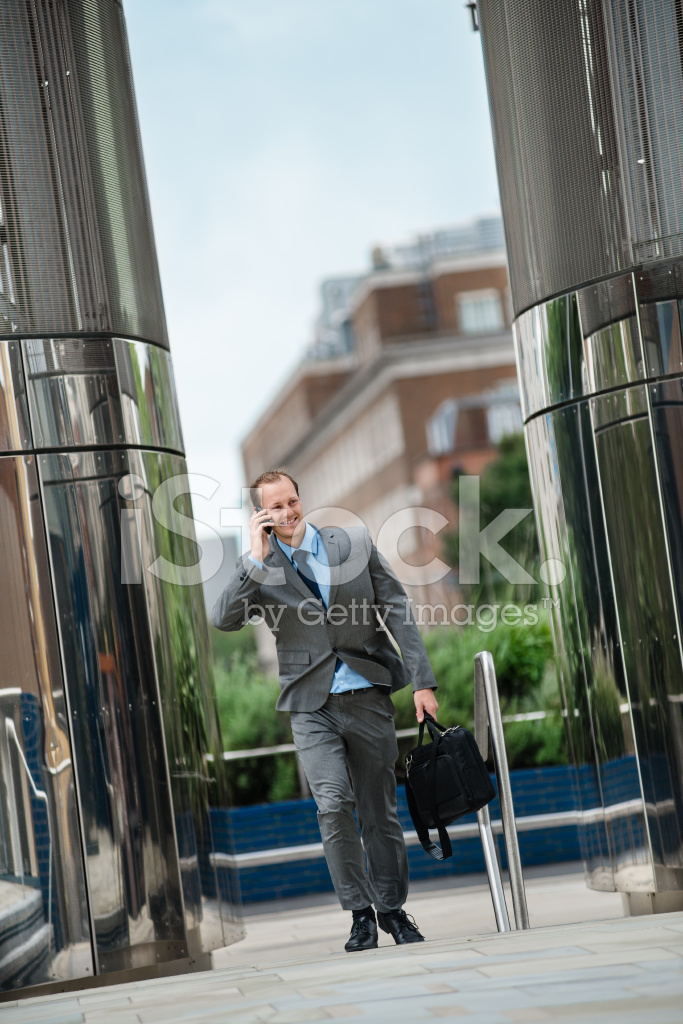phone: (240, 498, 280, 539)
talk: (244, 485, 306, 554)
